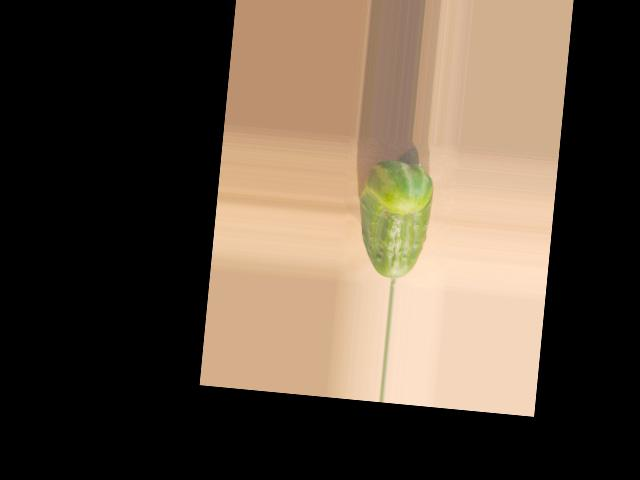cucumber: (354, 158, 436, 281)
